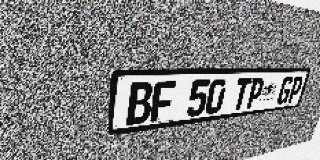0: (204, 79, 227, 115)
5: (186, 79, 211, 117)
B: (126, 82, 154, 126)
F: (150, 81, 176, 122)
G: (276, 76, 295, 105)
P: (245, 77, 266, 109), (286, 76, 305, 104)
T: (231, 78, 252, 111)
